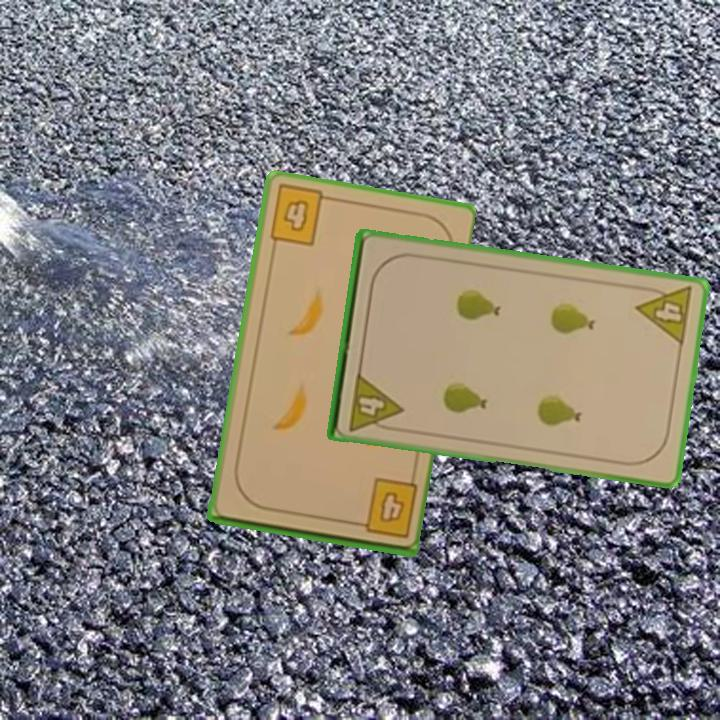4b: (347, 475, 420, 542), (265, 182, 335, 250)
4p: (633, 281, 696, 348), (345, 369, 405, 434)
